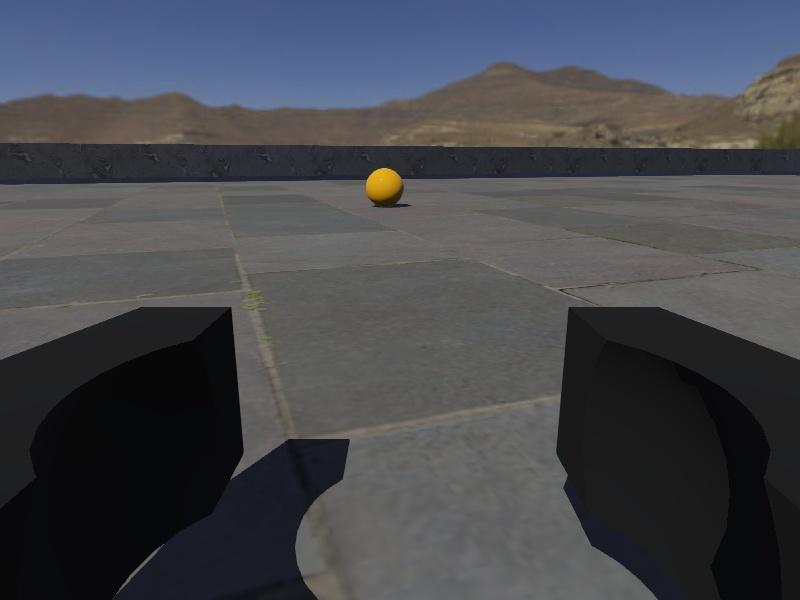orange ball: (365, 166, 405, 209)
